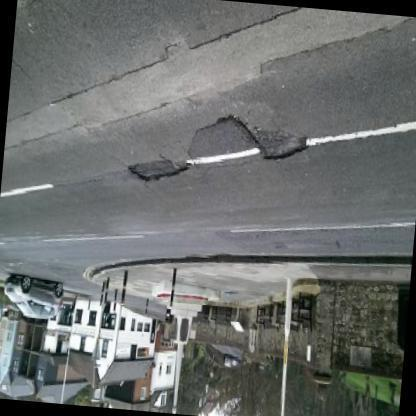pothole: (186, 114, 268, 168), (250, 127, 309, 161), (130, 158, 192, 184)
